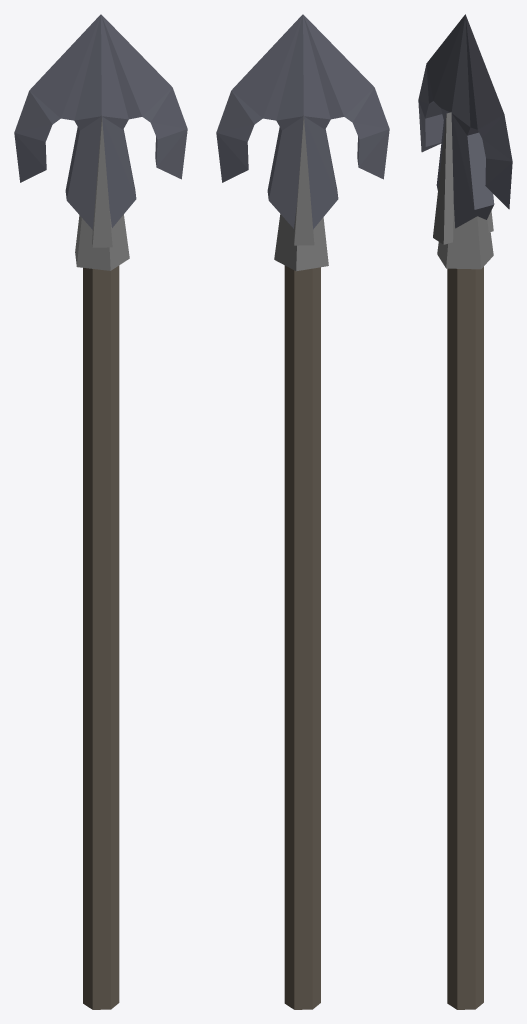
The model's file is _Archers_shell_LVL_4.fbx.
3 renders of one model, left to right at view 1: azimuth 30°, elevation 25°; view 2: azimuth 210°, elevation 25°; view 3: azimuth 330°, elevation 25°, orthographic.
Visible parts, largest first — view 1: Archers_shell_LVL_4; view 2: Archers_shell_LVL_4; view 3: Archers_shell_LVL_4.
Boxes of the visible parts, left/top/right/bottom form: Archers_shell_LVL_4: left=14, top=14, right=187, bottom=1009; Archers_shell_LVL_4: left=216, top=14, right=389, bottom=1009; Archers_shell_LVL_4: left=418, top=14, right=512, bottom=1009.
Bounding box in the file's own units: 39.96 × 282 × 20.45.
